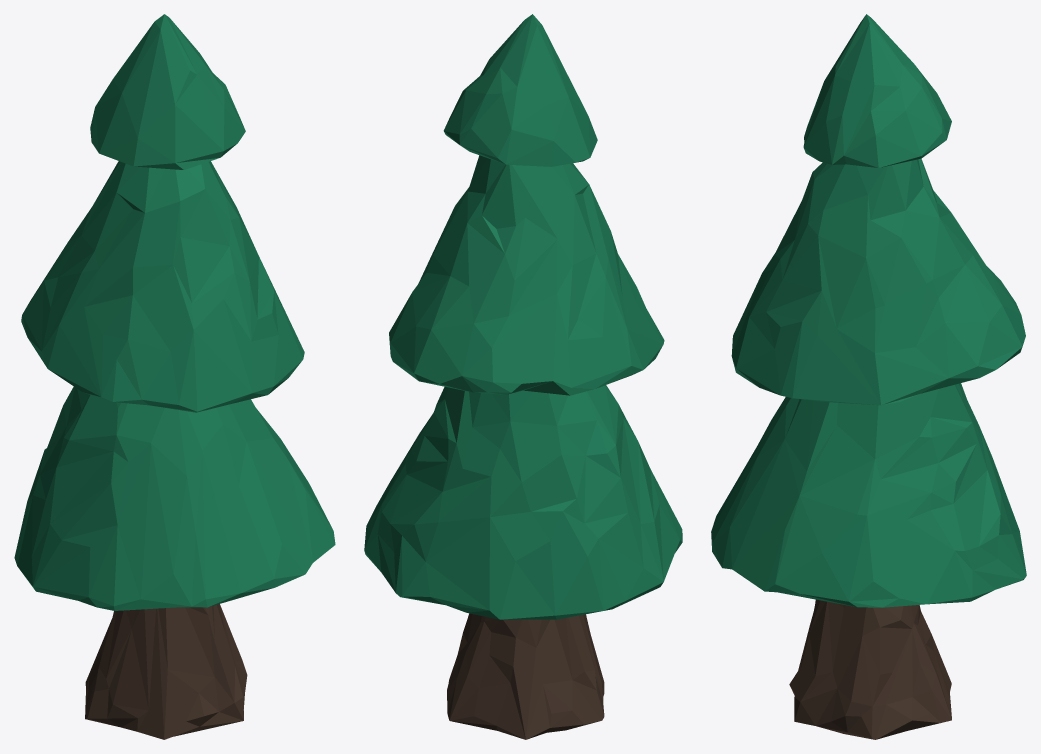
Rendered from tree.fbx.
3 views of the same model, side by side, from view 1: azimuth 30°, elevation 25°; view 2: azimuth 150°, elevation 25°; view 3: azimuth 270°, elevation 25° (orthographic).
Parts seen in each view (by area): view 1: pCylinder1, pCylinder2; view 2: pCylinder1, pCylinder2; view 3: pCylinder1, pCylinder2.
Part boxes in pixels (x1,y1,x2,y2): pCylinder1: [14, 14, 335, 610]; pCylinder2: [85, 604, 247, 739]; pCylinder1: [364, 14, 682, 619]; pCylinder2: [447, 613, 604, 739]; pCylinder1: [711, 14, 1026, 607]; pCylinder2: [789, 599, 951, 739].
Size of the model in its own units: 1.54 by 3.67 by 1.52.
